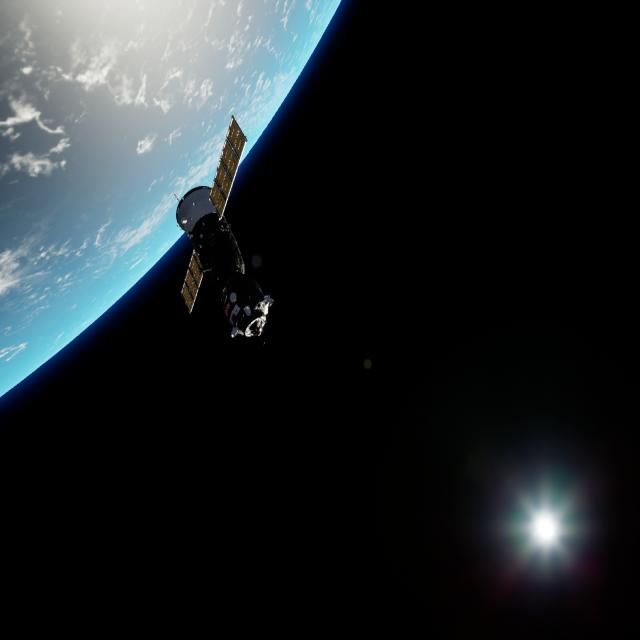Satellites revolving around earth: (173, 183, 275, 345)
